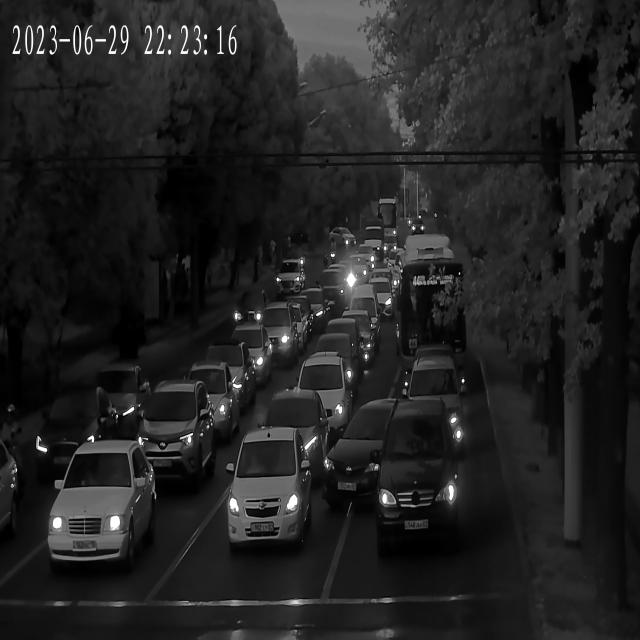Bus: (399, 230, 469, 390)
Car: (51, 439, 157, 570), (374, 401, 463, 537), (223, 429, 315, 550), (126, 384, 213, 484), (238, 392, 330, 482), (392, 362, 462, 462), (34, 395, 120, 471), (286, 352, 357, 436), (169, 363, 240, 436), (88, 360, 156, 431), (402, 351, 465, 409), (214, 330, 274, 387), (252, 306, 307, 364), (195, 345, 254, 399), (307, 332, 368, 380), (278, 289, 332, 332), (407, 344, 462, 385), (335, 294, 382, 337), (0, 433, 17, 543), (354, 281, 396, 323), (232, 291, 266, 329), (274, 261, 306, 291)
